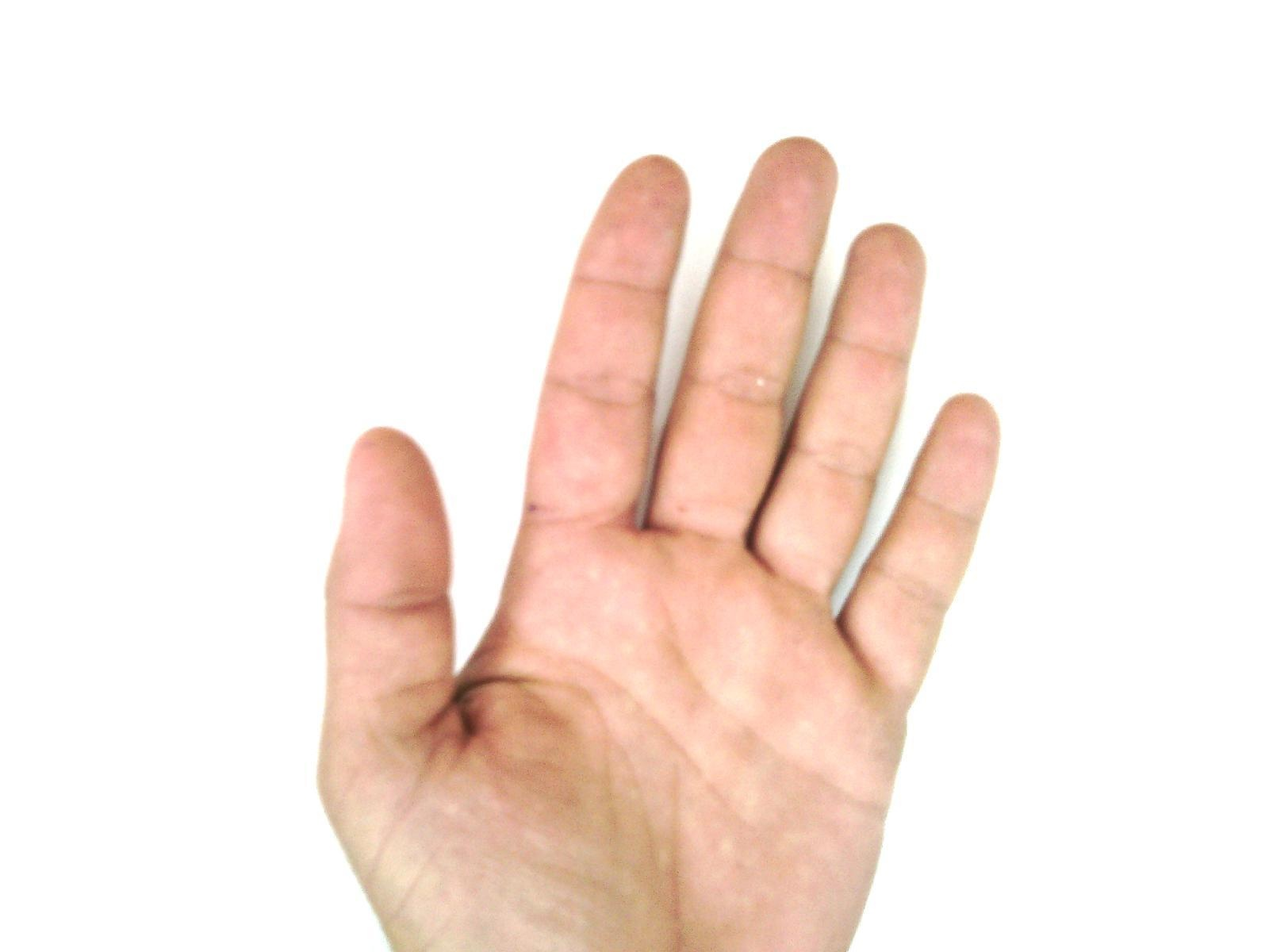open_palm: (314, 136, 1003, 952)
